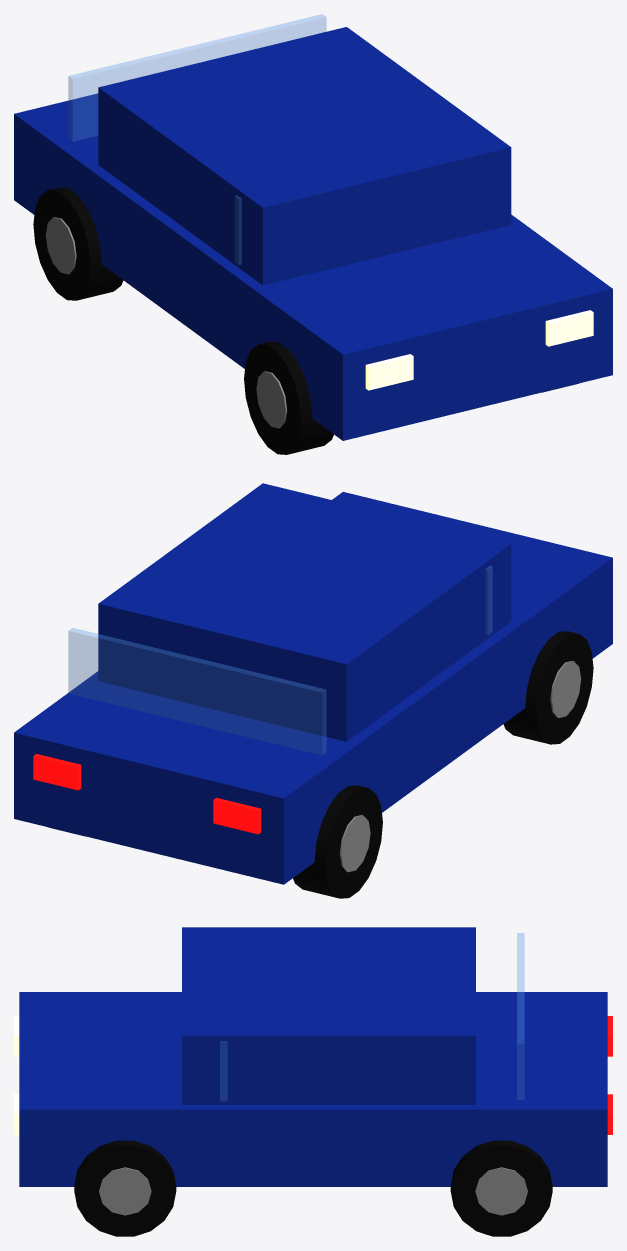
File: carro-blocos.glb
3 views of the same model, one above another, from view 1: azimuth 30°, elevation 25°; view 2: azimuth 150°, elevation 25°; view 3: azimuth 270°, elevation 25° (orthographic). The views are drawn at different scales.
Parts seen in each view (by area): view 1: carroceria, cabine, roda (×2), vidro_traseiro, farol (×2), carro_blocos; view 2: carroceria, cabine, vidro_traseiro, roda (×2), lanterna (×2), carro_blocos; view 3: carroceria, cabine, roda (×2), carro_blocos, vidro_traseiro, parabrisa.
Part boxes in pixels (x1=…): carroceria: x1=14, y1=93, x2=612, y2=440; cabine: x1=98, y1=27, x2=511, y2=285; roda (×2): x1=33, y1=187, x2=333, y2=454; vidro_traseiro: x1=68, y1=14, x2=326, y2=141; farol (×2): x1=365, y1=310, x2=593, y2=390; carro_blocos: x1=45, y1=217, x2=287, y2=428; carroceria: x1=14, y1=492, x2=612, y2=884; cabine: x1=98, y1=483, x2=511, y2=741; vidro_traseiro: x1=68, y1=628, x2=326, y2=754; roda (×2): x1=293, y1=631, x2=593, y2=898; lanterna (×2): x1=33, y1=754, x2=261, y2=834; carro_blocos: x1=339, y1=661, x2=581, y2=872; carroceria: x1=19, y1=992, x2=607, y2=1186; cabine: x1=182, y1=927, x2=475, y2=1104; roda (×2): x1=74, y1=1140, x2=552, y2=1236; carro_blocos: x1=99, y1=1167, x2=527, y2=1215; vidro_traseiro: x1=517, y1=933, x2=524, y2=1099; parabrisa: x1=220, y1=1041, x2=227, y2=1100.
Bounding box in the file's own units: 1.97 × 1.36 × 3.87.
